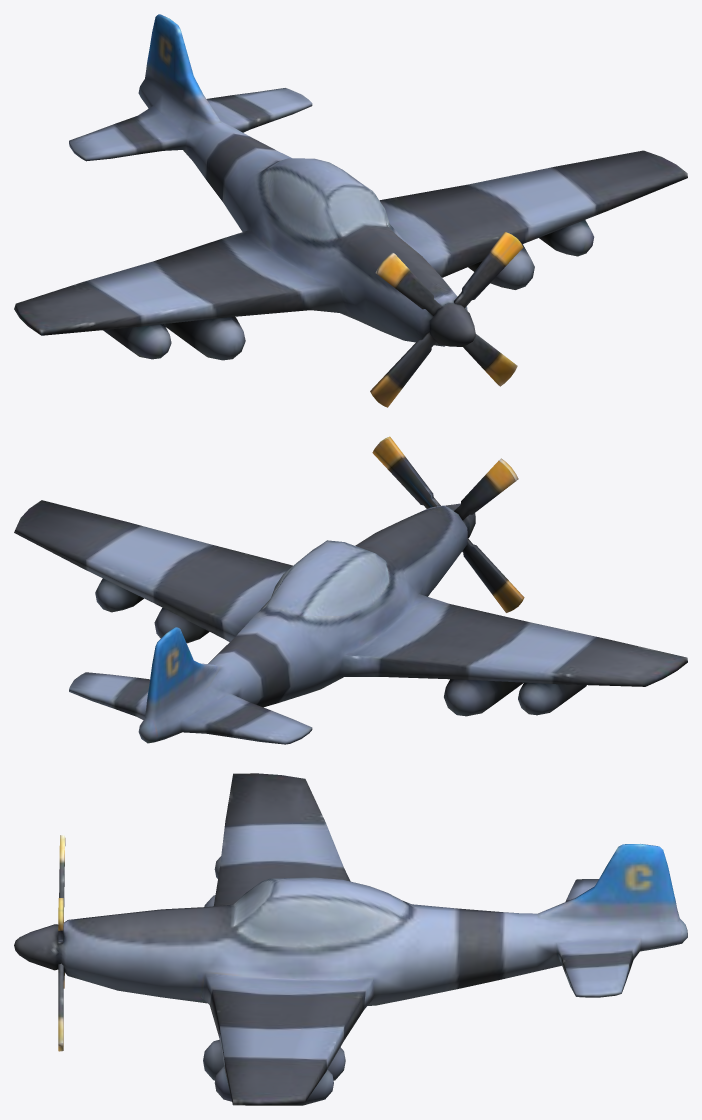
Rendered from Fighter.glb.
The picture shows the model from 3 angles, top to bottom: view 1: azimuth 30°, elevation 25°; view 2: azimuth 150°, elevation 25°; view 3: azimuth 270°, elevation 25°; orthographic projection. The views are drawn at different scales.
Visible parts, largest first — view 1: Cylinder; view 2: Cylinder; view 3: Cylinder.
Boxes of the visible parts, left/top/right/bottom form: Cylinder: left=14, top=14, right=687, bottom=407; Cylinder: left=14, top=436, right=687, bottom=744; Cylinder: left=14, top=773, right=687, bottom=1105.
Size of the model in its own units: 3.07 by 0.7929 by 2.67.
Materials: 1 (1 with a texture image).
